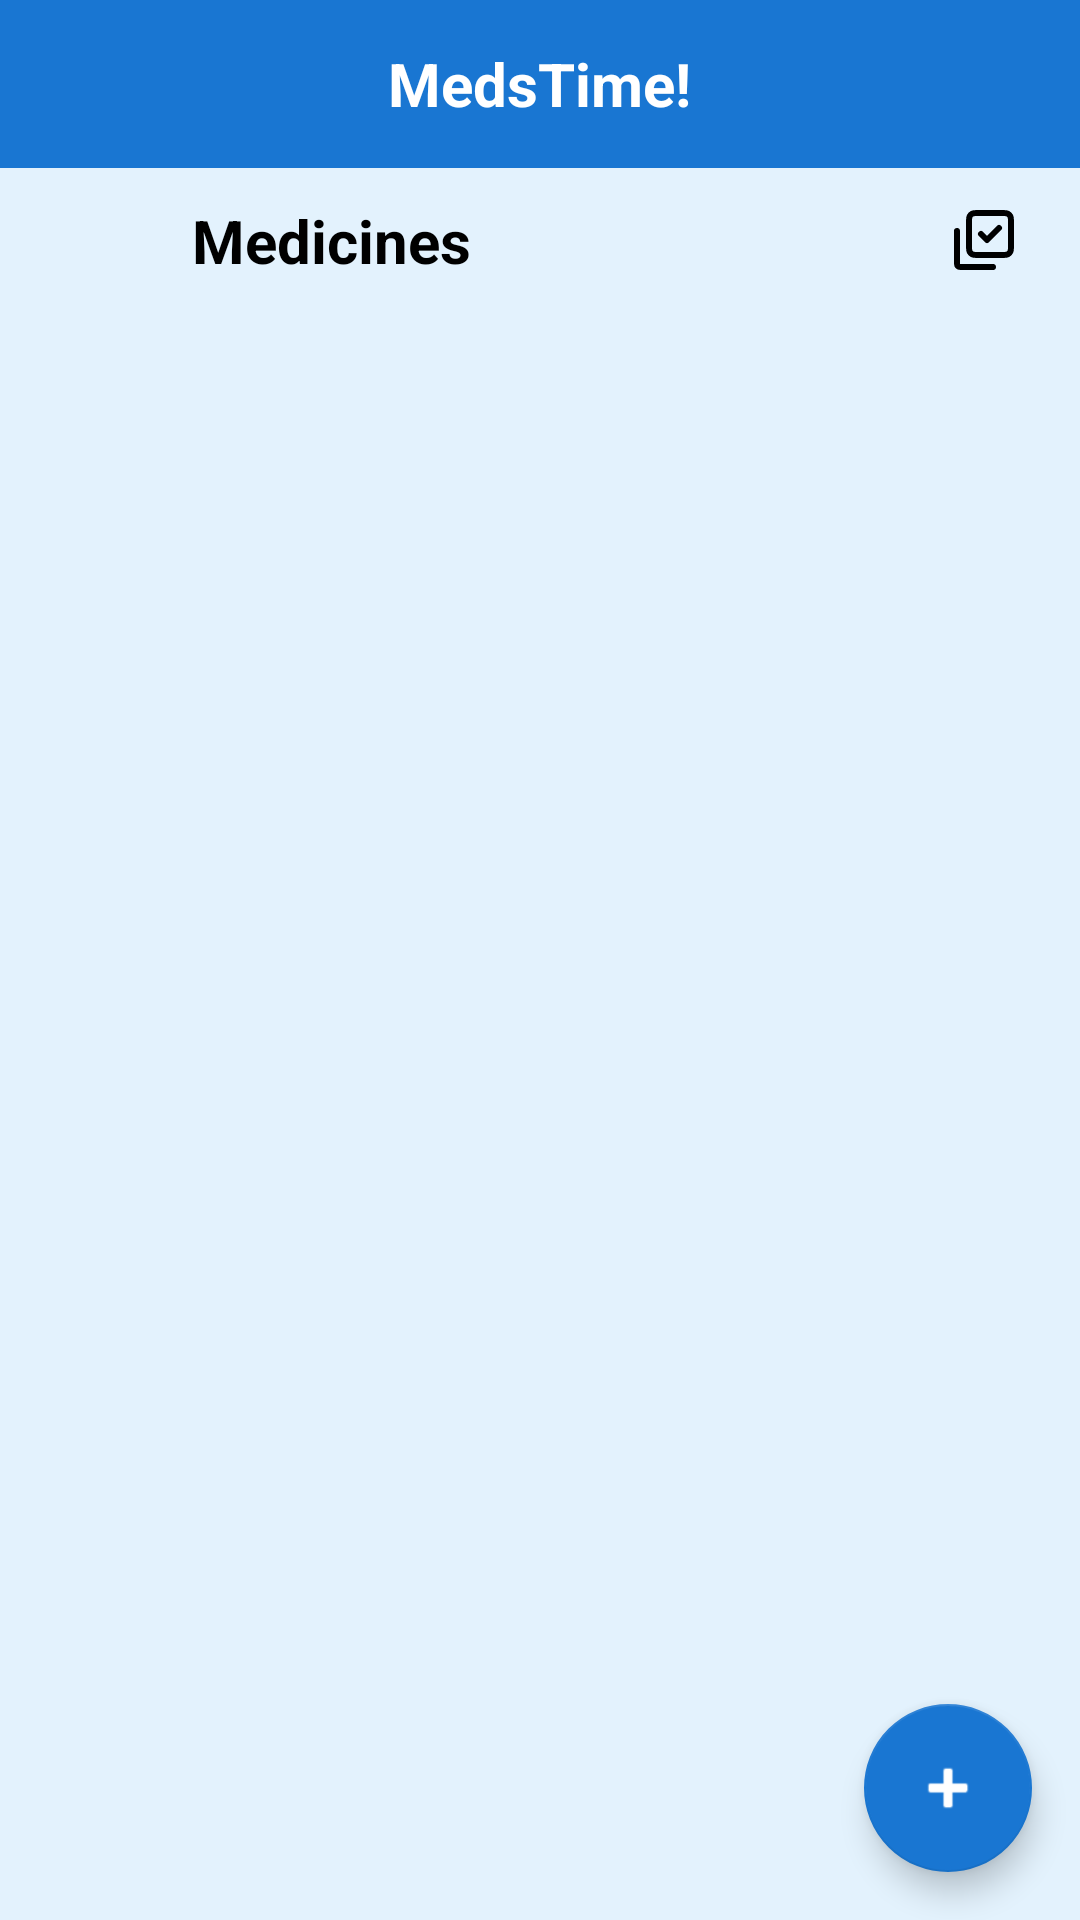

Screen size 1080 x 1920. Icon name, then its box in pixels as (x1, y1, x2, y2):
Add Medicine: (864, 1704, 1032, 1872)
Mark: (954, 210, 1014, 270)
